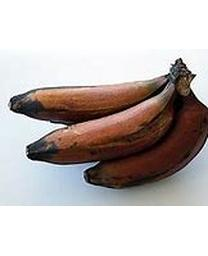banana: (5, 57, 206, 186)
